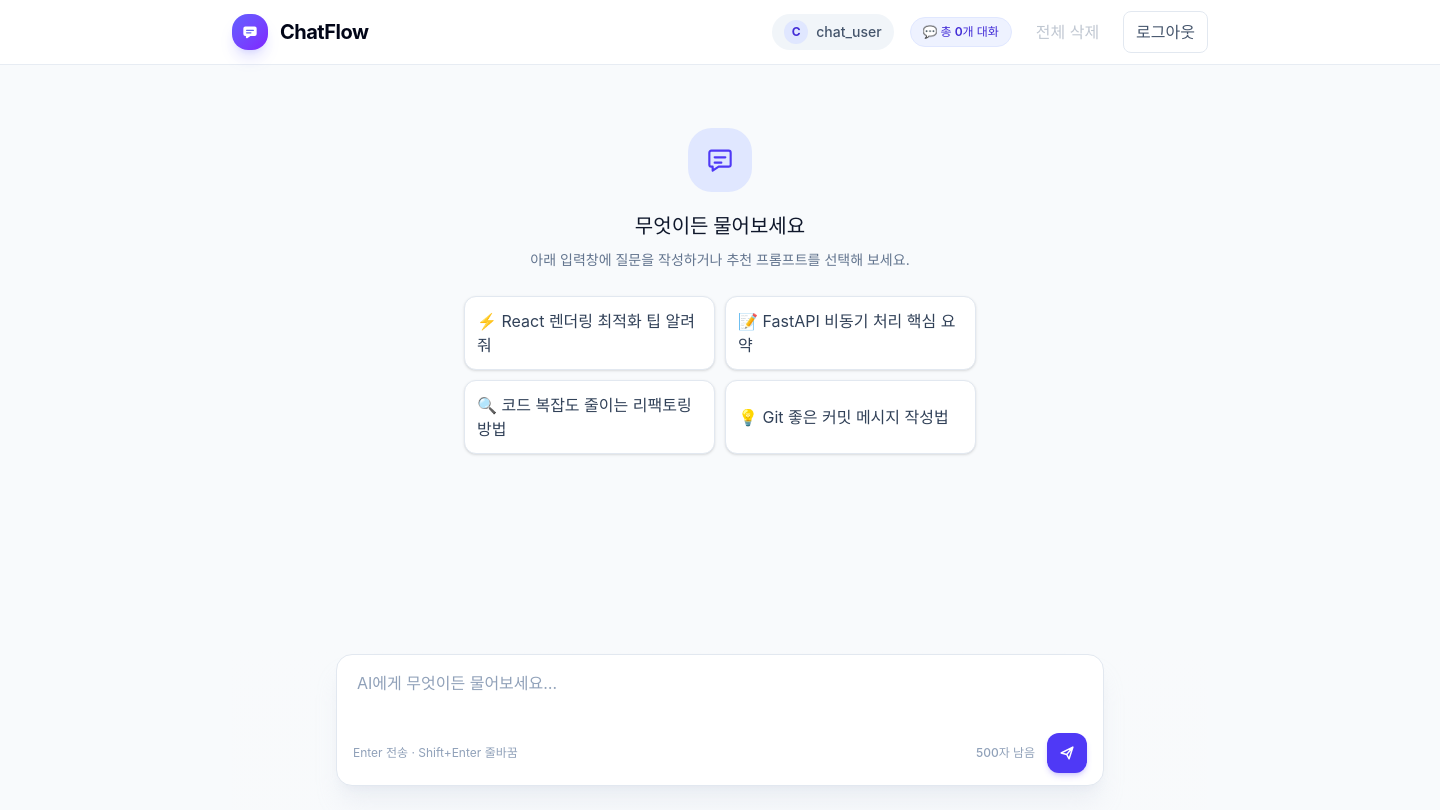
Test: ChatFlow application › AI timeout 오류를 보여주고 입력한 질문을 보존한다
The width and height of the screenshot is (1440, 810).
Check: the heading "무엇이든 물어보세요" is shown, box 635,212 -> 805,240
Type "느린 질문" into the text box named "AI에게 보낼 질문". click: (720, 695)
box: 345,663 -> 1095,727
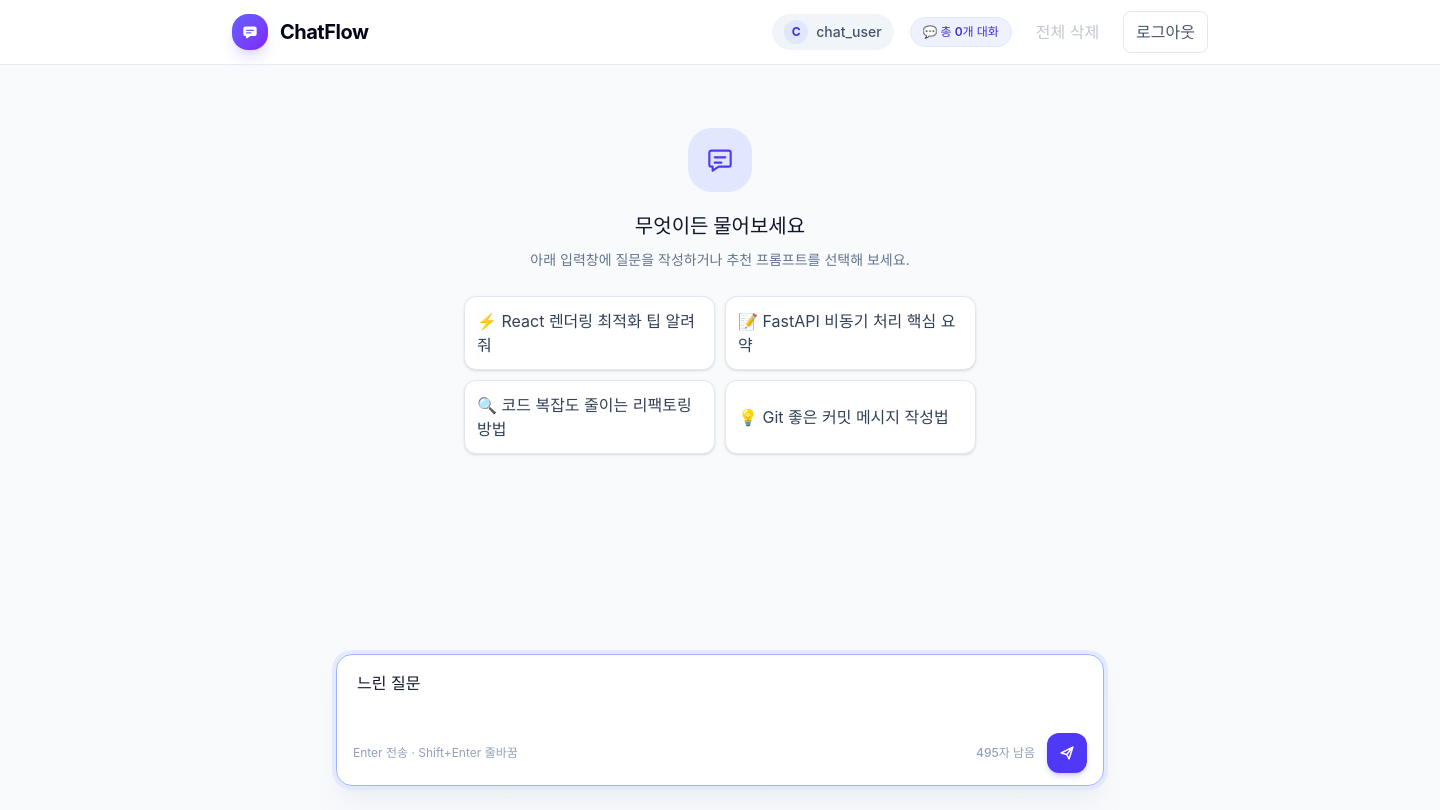
Click the button named "질문 전송". click: (1067, 753)
box: 1047,733 -> 1087,773
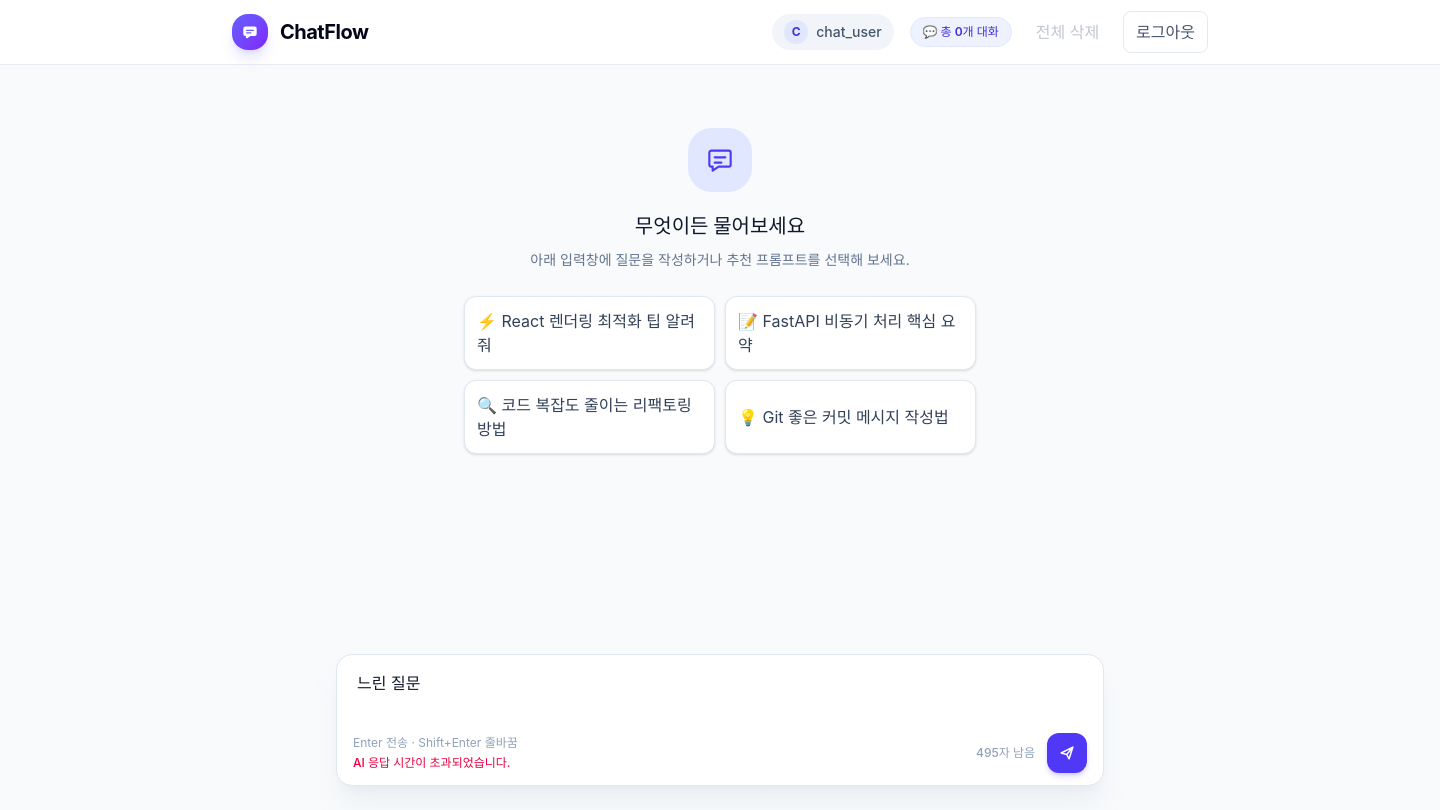
Check: the text "AI 응답 시간이 초과되었습니다." is shown, box 353,755 -> 518,771
